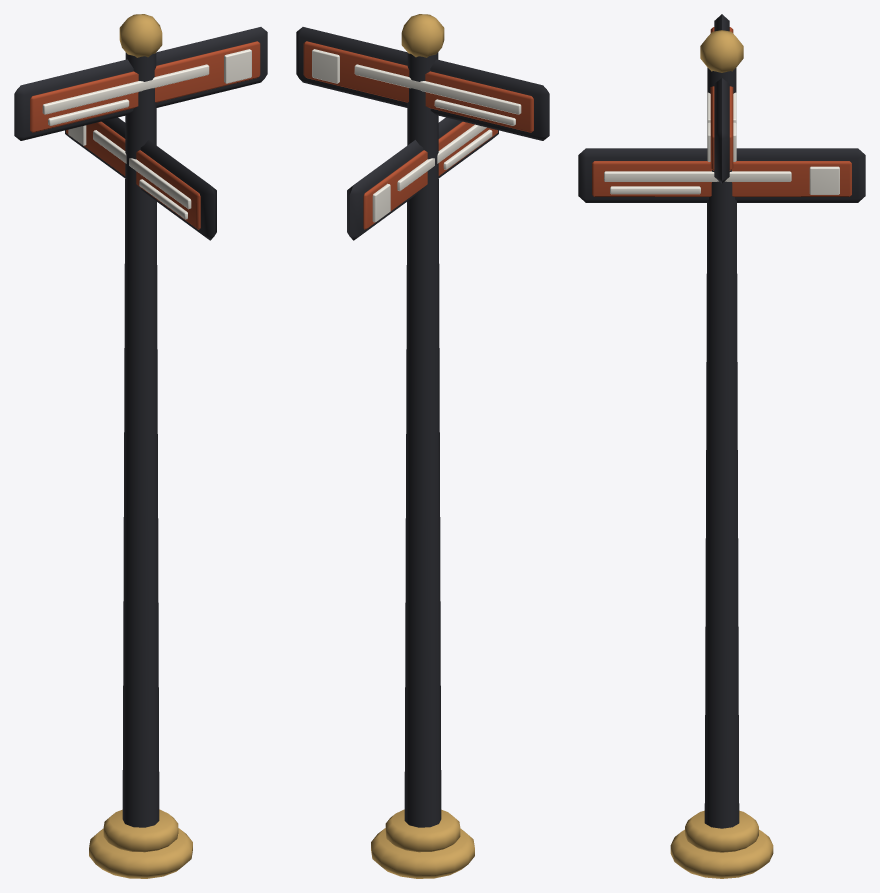
File: street_sign_post.glb
3 renders of one model, left to right at view 1: azimuth 30°, elevation 25°; view 2: azimuth 150°, elevation 25°; view 3: azimuth 270°, elevation 25°, orthographic.
Visible parts, largest first — view 1: street_sign_post; view 2: street_sign_post; view 3: street_sign_post.
Part boxes in pixels (x1=…): street_sign_post: x1=14, y1=14, x2=267, y2=878; street_sign_post: x1=296, y1=14, x2=549, y2=878; street_sign_post: x1=578, y1=14, x2=865, y2=878.
Bounding box in the file's own units: 0.95 × 3.03 × 0.95.
